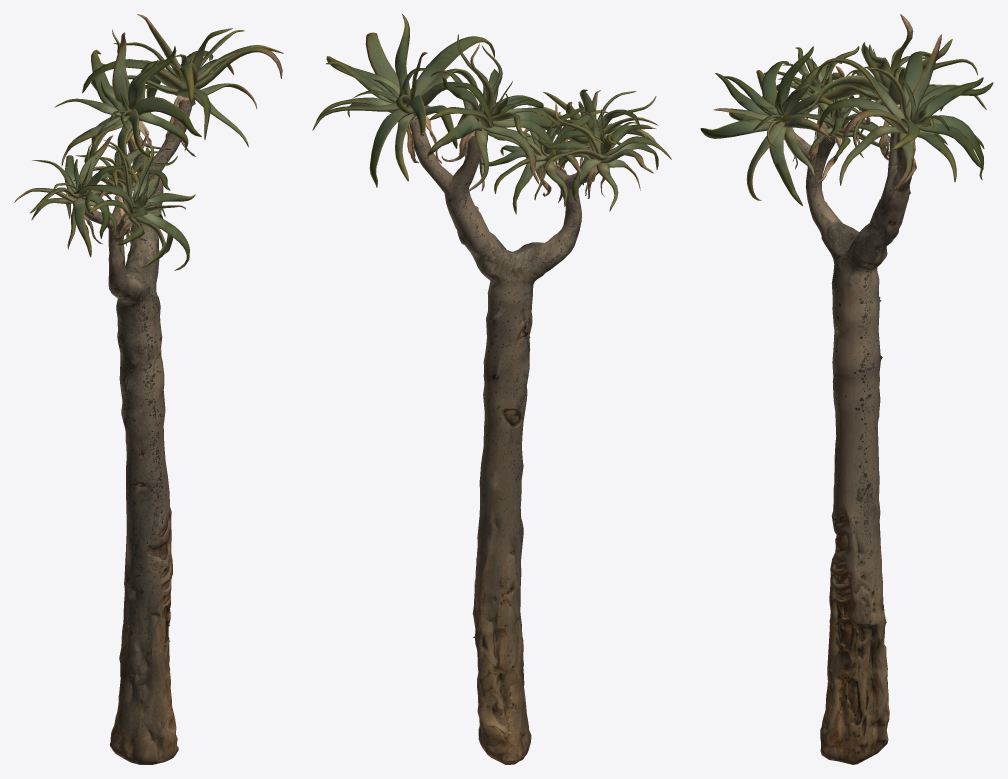
The model's file is ph-quiver-tree-01.glb.
3 views of the same model, side by side, from view 1: azimuth 30°, elevation 25°; view 2: azimuth 150°, elevation 25°; view 3: azimuth 270°, elevation 25° (orthographic). The views are drawn at different scales.
Visible parts, largest first — view 1: quiver_tree_01; view 2: quiver_tree_01; view 3: quiver_tree_01.
Boxes of the visible parts, x1,y1,x2,y2 form: quiver_tree_01: (14,14,283,764); quiver_tree_01: (312,14,671,764); quiver_tree_01: (700,14,993,764).
Size of the model in its own units: 1.18 by 2.72 by 0.9677.
Materials: 2 (2 with a texture image).
